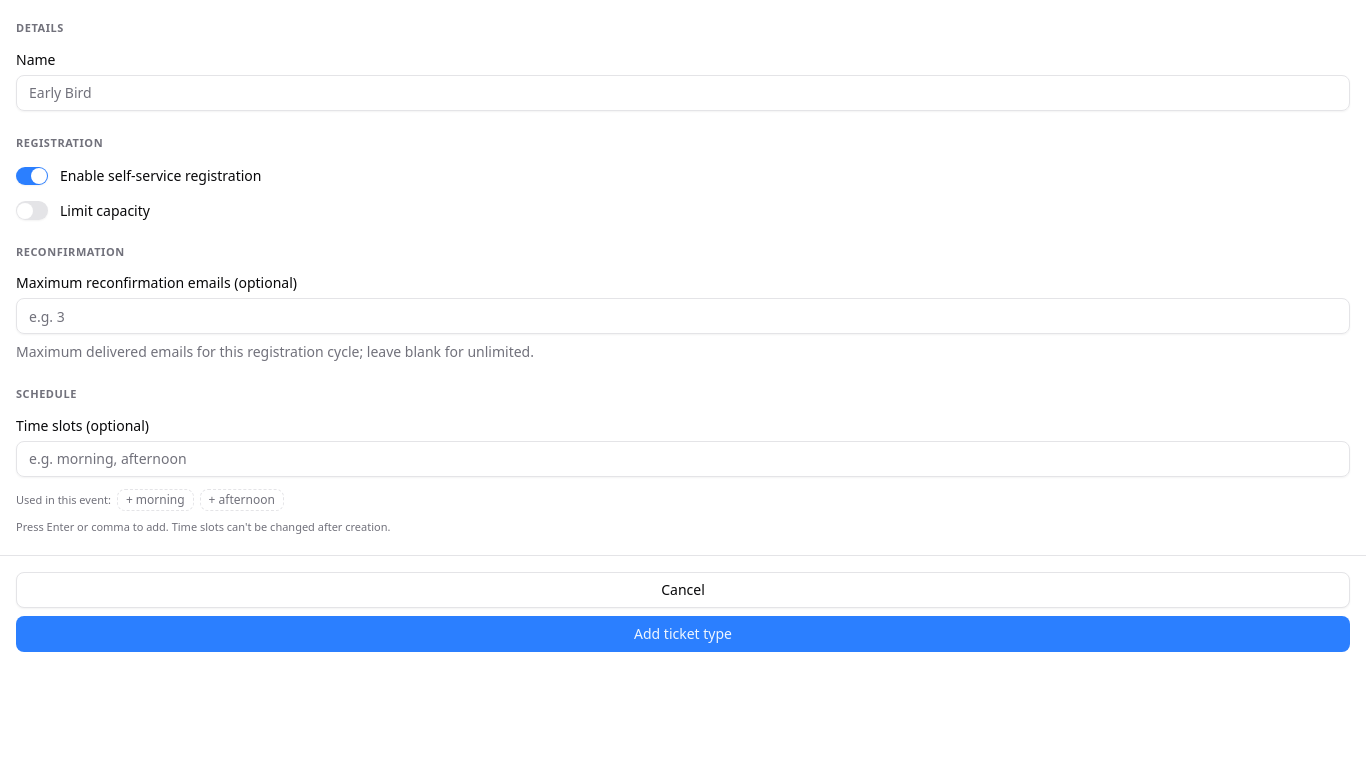
Scenario: AddTicketTypeForm time slots › adds a slot from the event's existing suggestions
Click the button "+ morning": click(155, 500) [117,489,194,511]
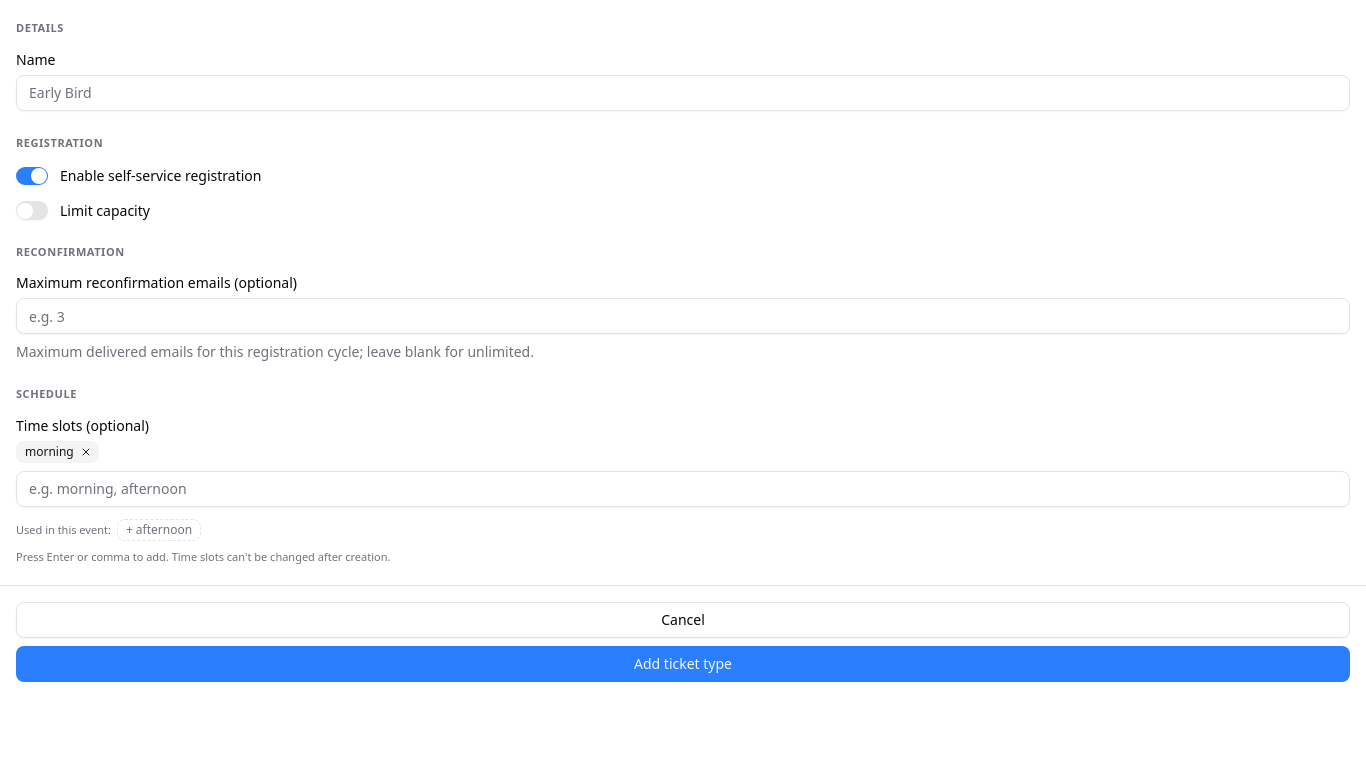
Expected: the button "+ afternoon" is shown, [117,519,201,541]
Result: the button "+ morning" is gone
